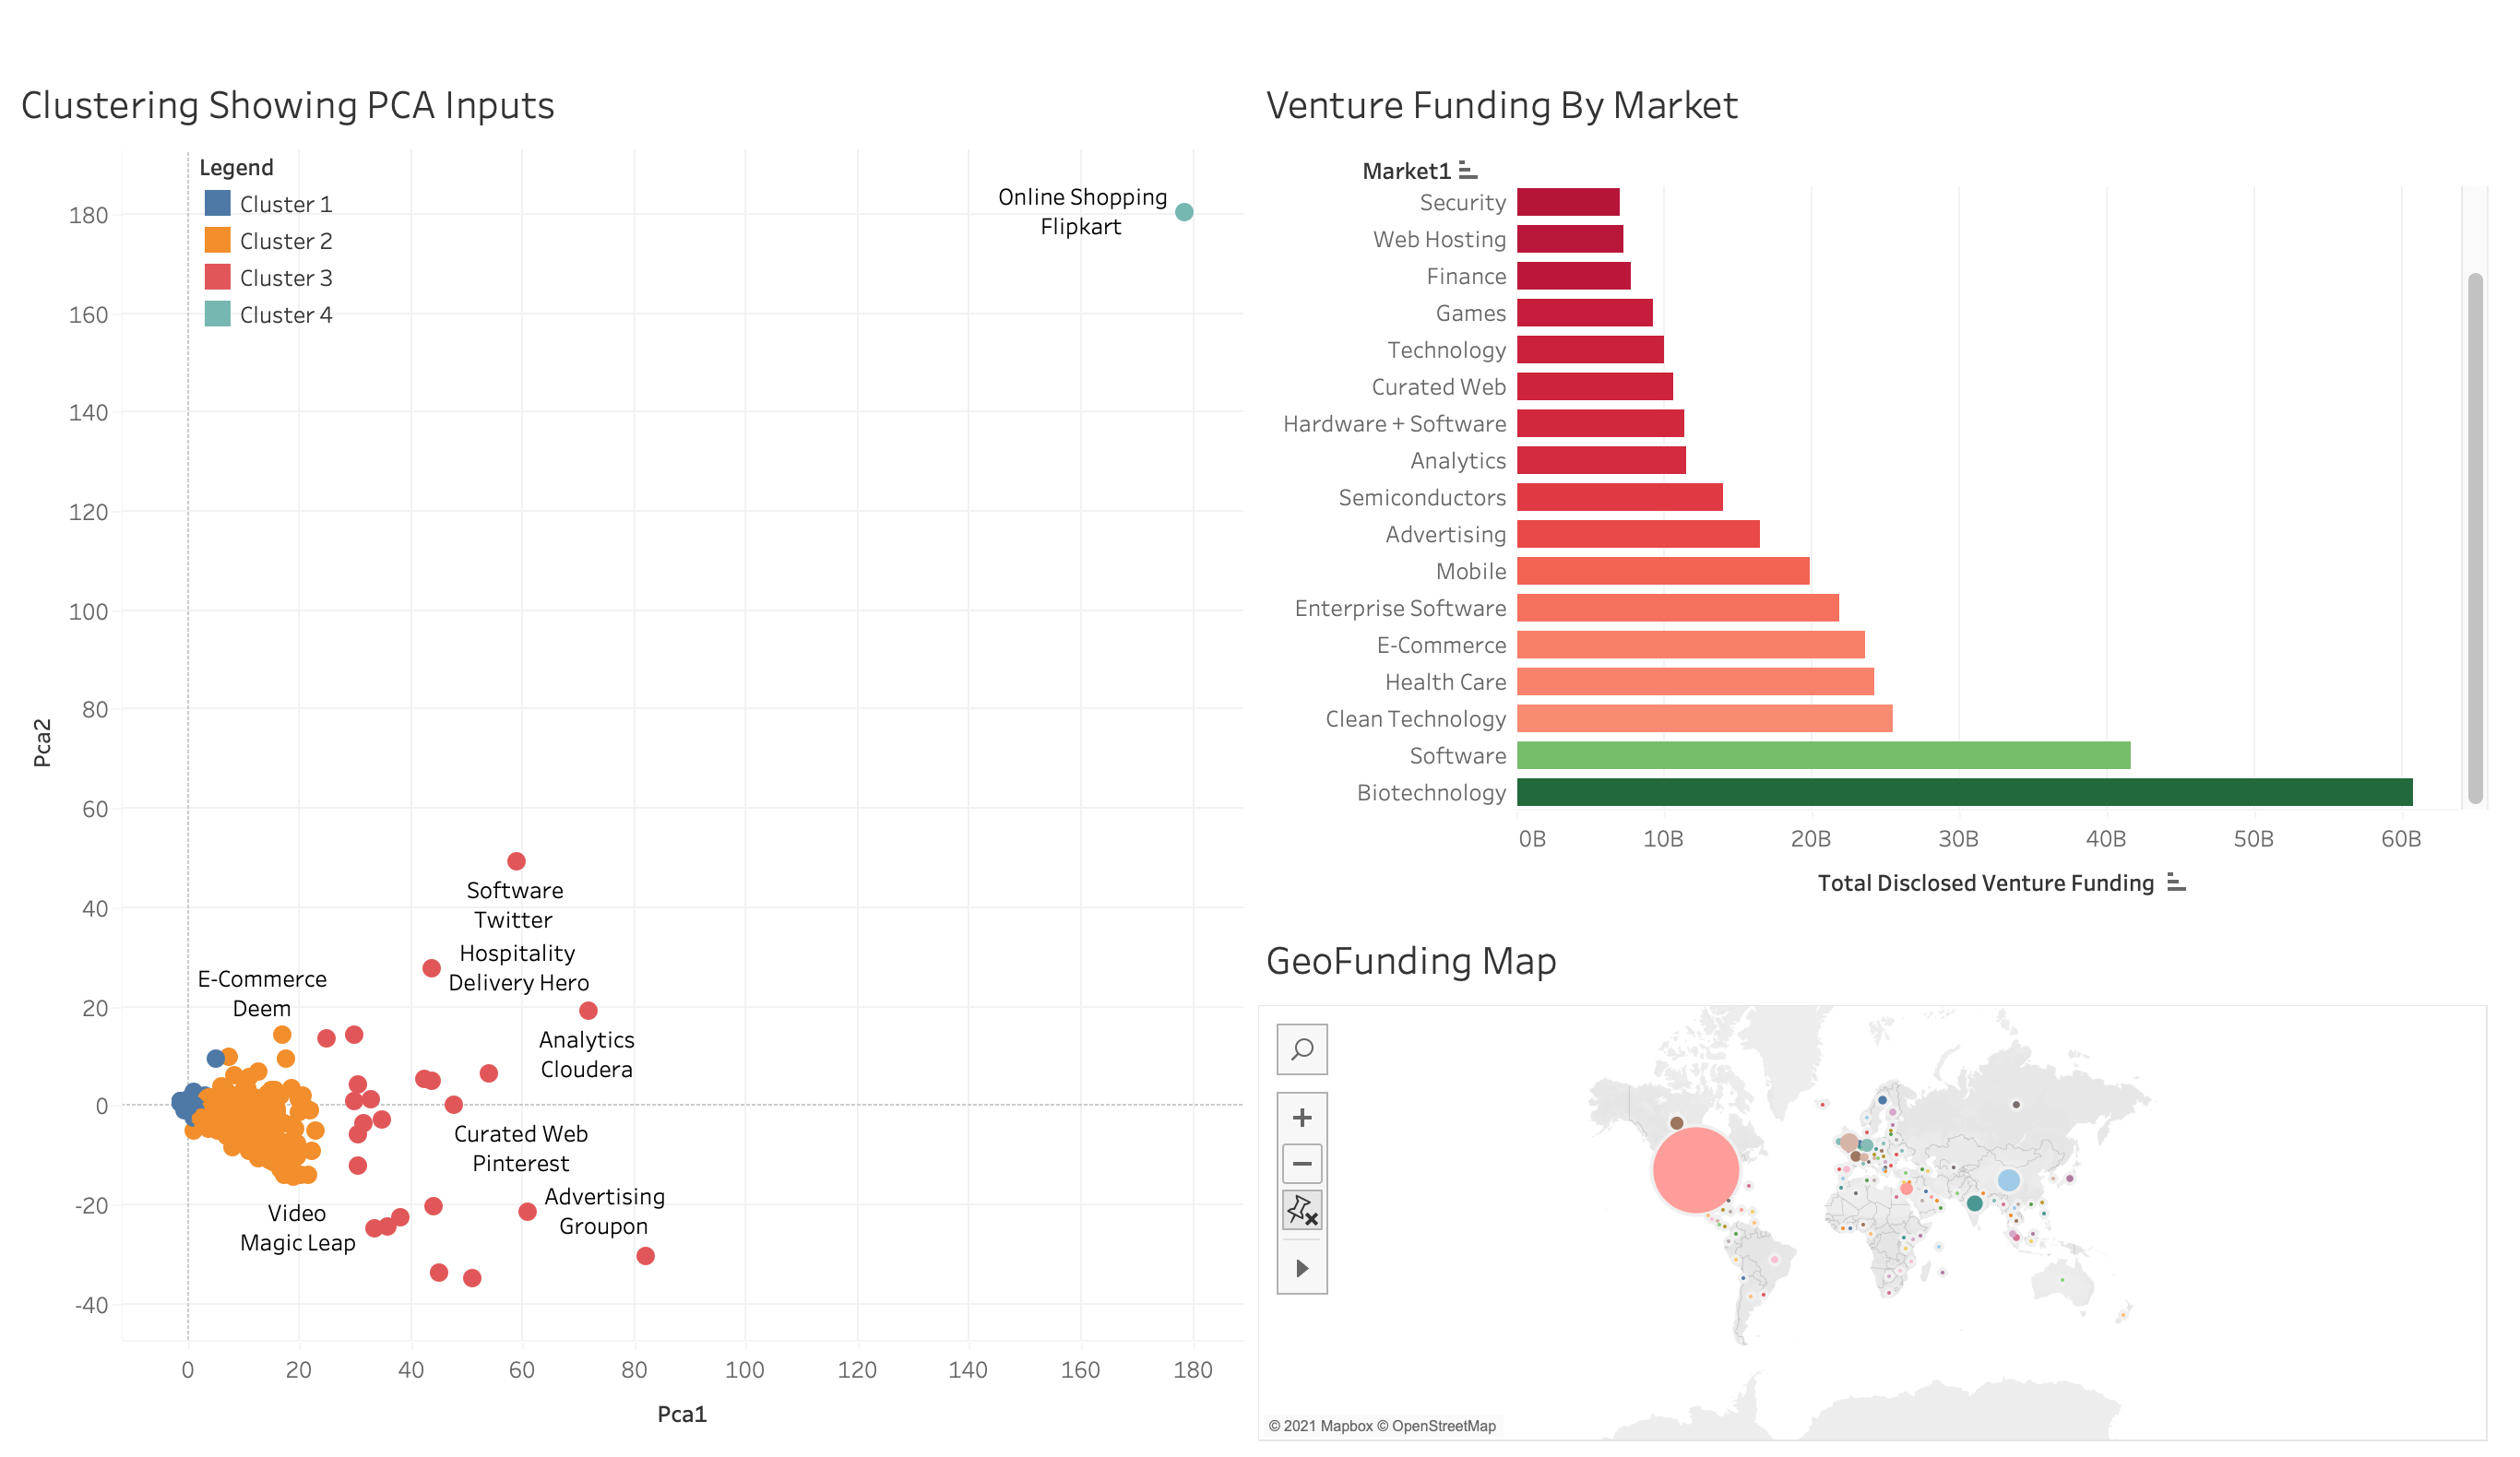

The dashboard page shown, as its layout file describes it:
{"tool":"tableau","page":{"name":"Dashboard 1","canvas":[1366,768],"ordinal":0},"visuals":[{"type":"worksheet","title":"Clustering Showing PCA Inputs","mark":"Circle","rows":["pca2"],"cols":["pca1"],"box":[8,8,675,752]},{"type":"worksheet","title":"Venture Funding By Market","mark":"Automatic","rows":["market "],"cols":["total_disclosed_venture_funding"],"box":[683,8,675,464.2]},{"type":"legend","title":"Clustering Showing PCA Inputs","param":"[federated.1y911xz0fs2wbw15nazm30zgh3ds].[none:AdhocCluster:2:ok]","box":[115,90,140,98]},{"type":"worksheet","title":"GeoFunding Map","mark":"Automatic","box":[683,472.2,675,287.8]}]}

Visuals, with their boxes in screenshot pixels (x1, y1, x2, y2), scaled from the page's 1366x768 canvas onto the 2520x1457 screenshot:
"Clustering Showing PCA Inputs" worksheet (Circle marks): [x1=15, y1=15, x2=1260, y2=1442]
"Venture Funding By Market" worksheet: [x1=1260, y1=15, x2=2505, y2=895]
"Clustering Showing PCA Inputs" legend: [x1=212, y1=171, x2=470, y2=357]
"GeoFunding Map" worksheet: [x1=1260, y1=895, x2=2505, y2=1442]
